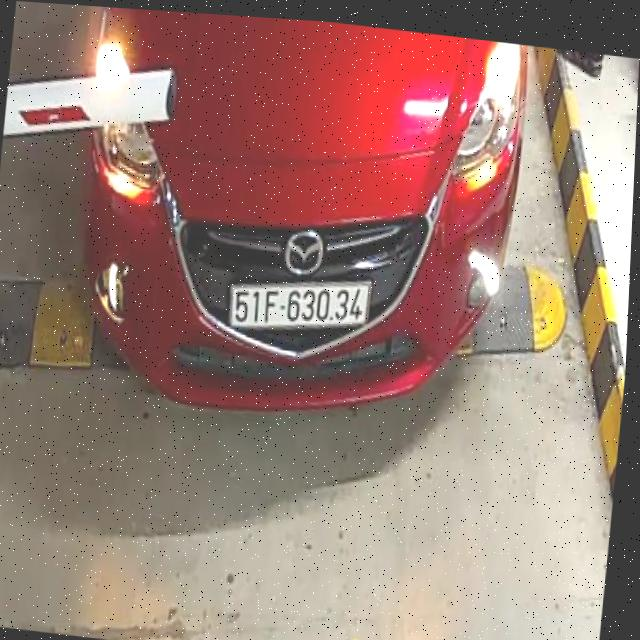car: (49, 4, 538, 449)
plate: (229, 268, 371, 344)
